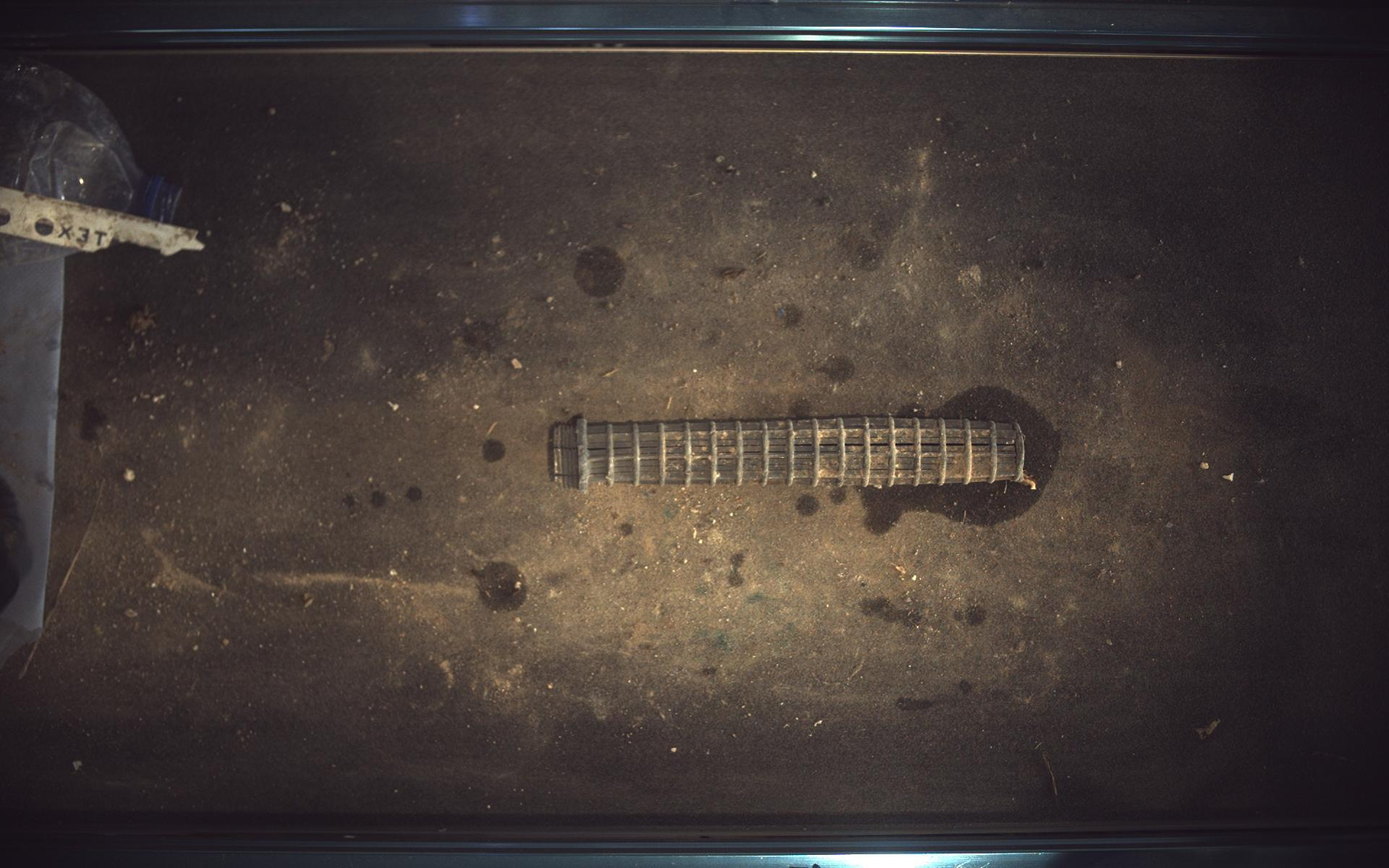plastic: (552, 417, 1032, 490)
